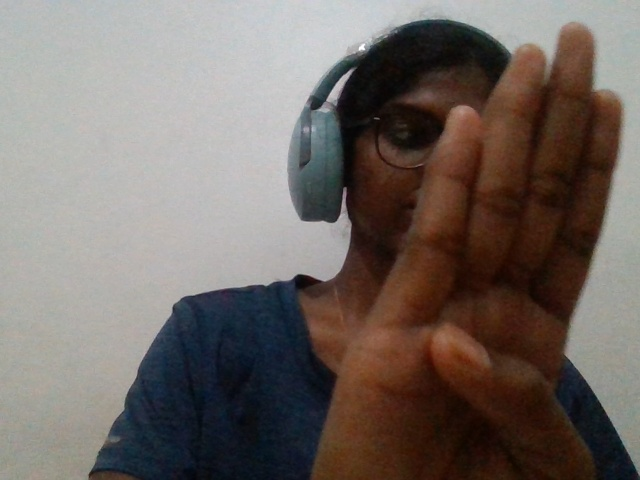B: (306, 13, 634, 480)
